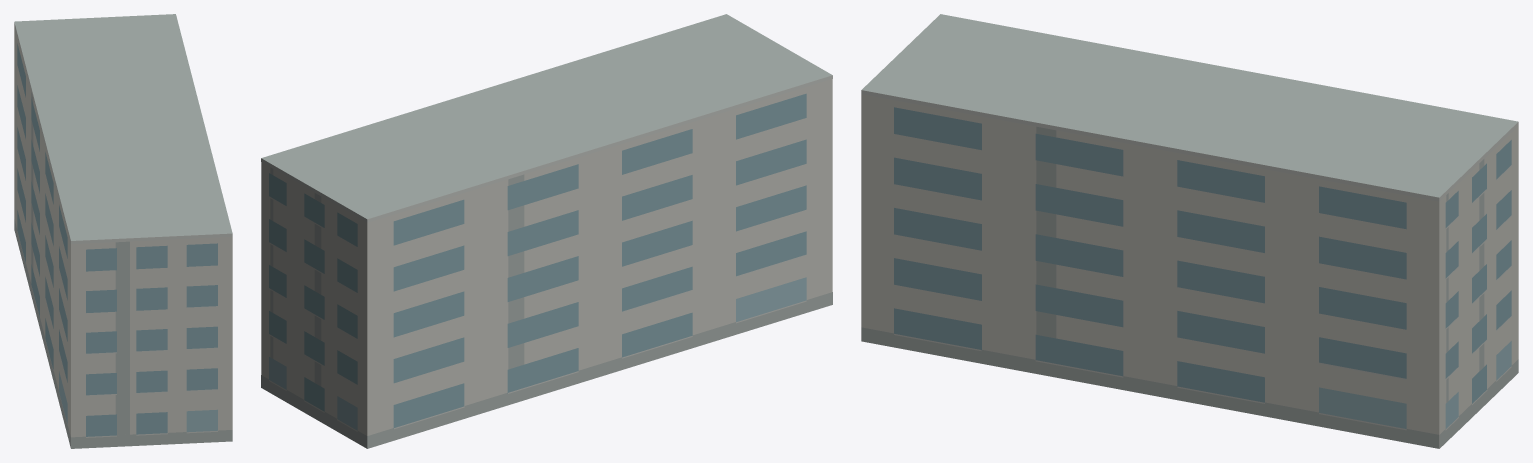
File: residential-a27264b4-ff67-4c3a-a613-4e4f68583899.glb
The picture shows the model from 3 angles, left to right: view 1: azimuth 30°, elevation 25°; view 2: azimuth 150°, elevation 25°; view 3: azimuth 270°, elevation 25°; orthographic projection. The views are drawn at different scales.
Visible parts, largest first — view 1: residential-a27264b4-ff67-4c3a-a613-4e4f68583899.tmp; view 2: residential-a27264b4-ff67-4c3a-a613-4e4f68583899.tmp; view 3: residential-a27264b4-ff67-4c3a-a613-4e4f68583899.tmp.
Part boxes in pixels (x1,y1,x2,y2): residential-a27264b4-ff67-4c3a-a613-4e4f68583899.tmp: (14, 14, 232, 448); residential-a27264b4-ff67-4c3a-a613-4e4f68583899.tmp: (261, 14, 832, 448); residential-a27264b4-ff67-4c3a-a613-4e4f68583899.tmp: (861, 14, 1518, 448).
Bounding box in the file's own units: 23.91 × 15.25 × 36.16.
